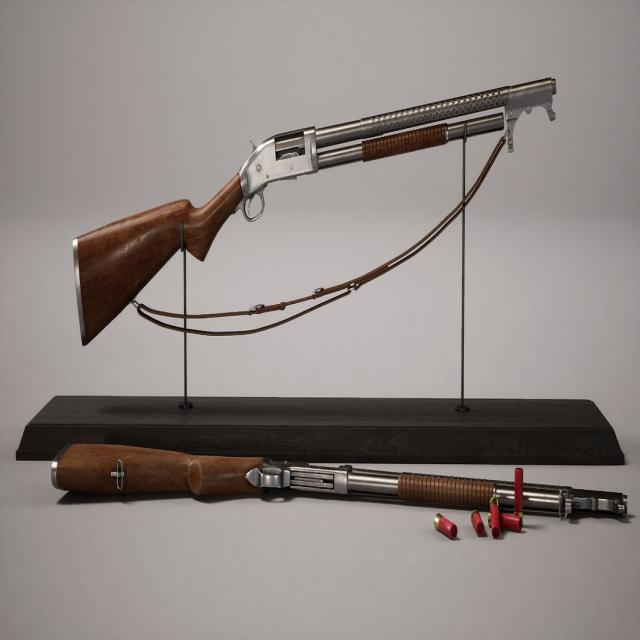ShotGun: (71, 78, 556, 346), (55, 443, 625, 513)
